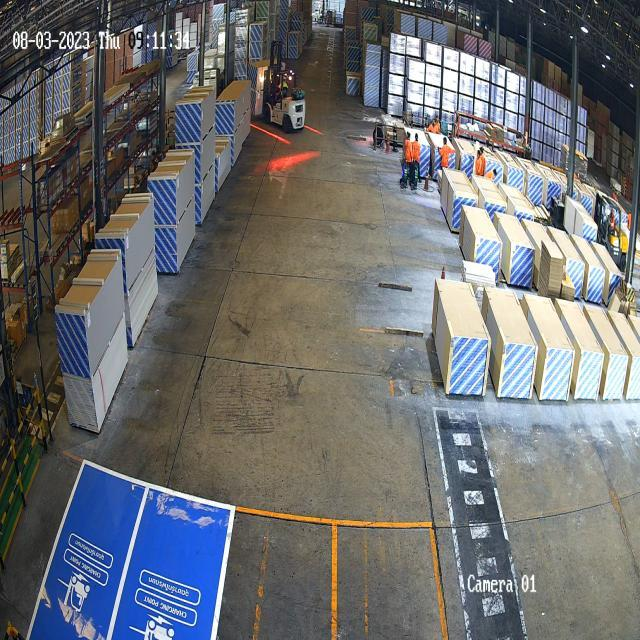driver: (276, 75, 288, 98), (608, 206, 616, 237)
forklift: (262, 66, 308, 136), (597, 193, 627, 264)
person: (412, 132, 422, 180), (405, 131, 413, 189), (439, 135, 451, 169), (428, 118, 438, 132), (477, 149, 482, 175)
